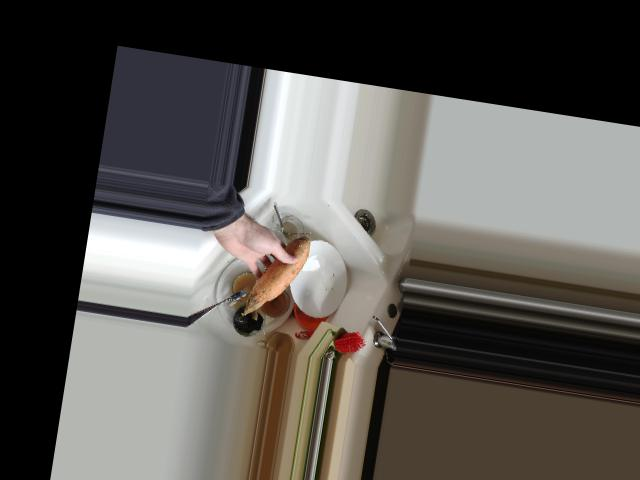sweet_potato: (239, 227, 314, 322)
